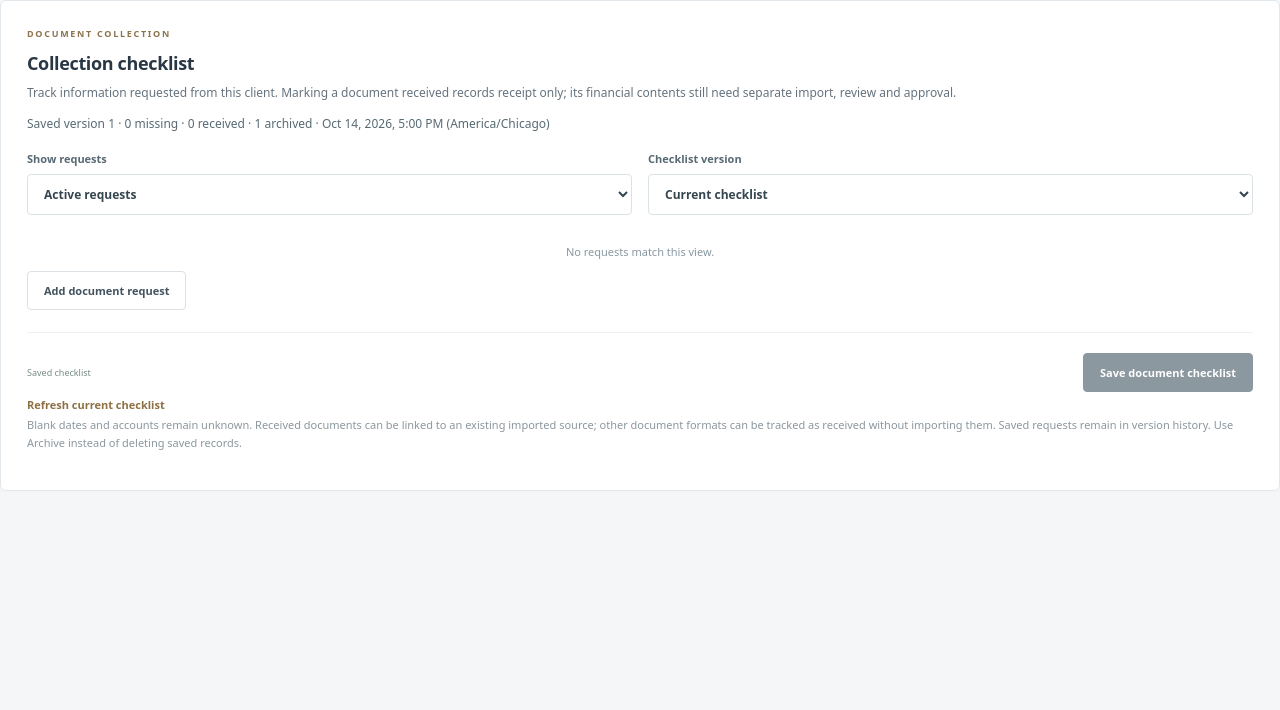
Scenario: removes only unsaved requests, preserves saved IDs and filters archived records
Expected: the text "No requests match this view." is shown, [566,244,714,259]
Select "Archived" in the dropdown labelled "Show requests" at (330, 194), box [27,174,632,215]
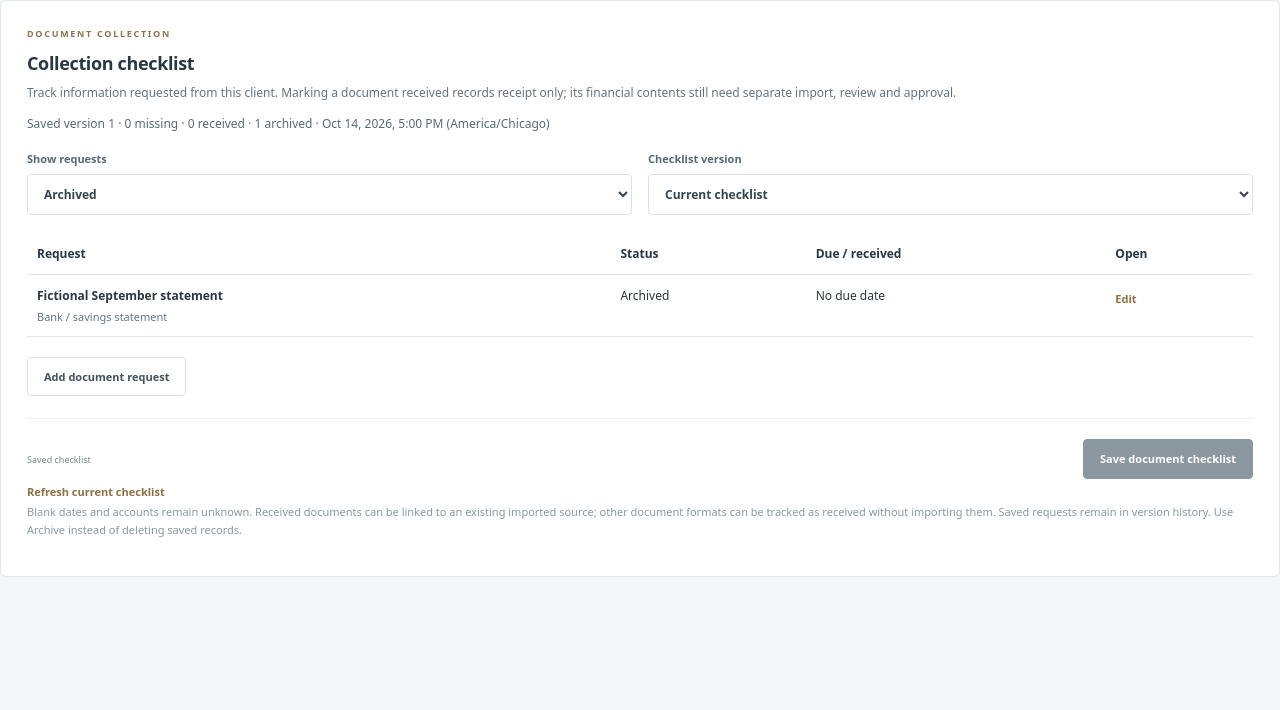
Click the button "Edit" at (1126, 298), box [1115,287,1137,310]
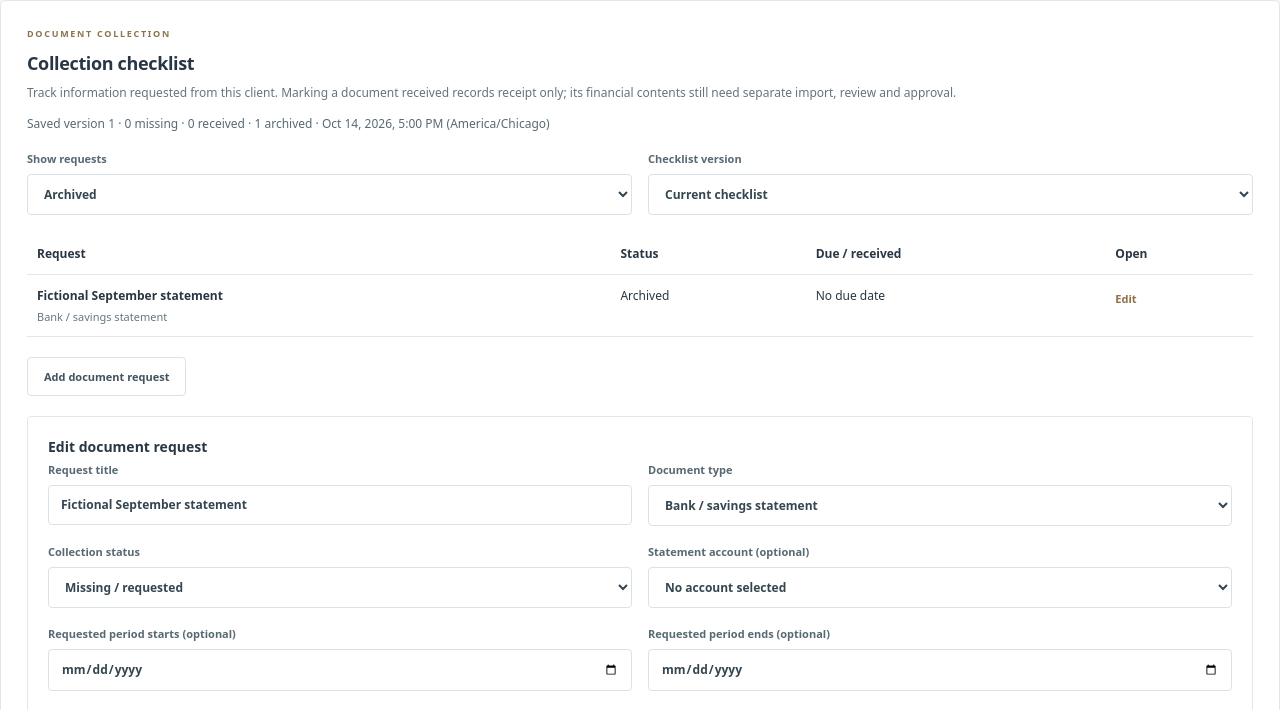
Expected: the button "Remove unsaved request" is not shown
Click the button "Add document request" at (107, 377), box [27,357,186,396]
(page scrolled)
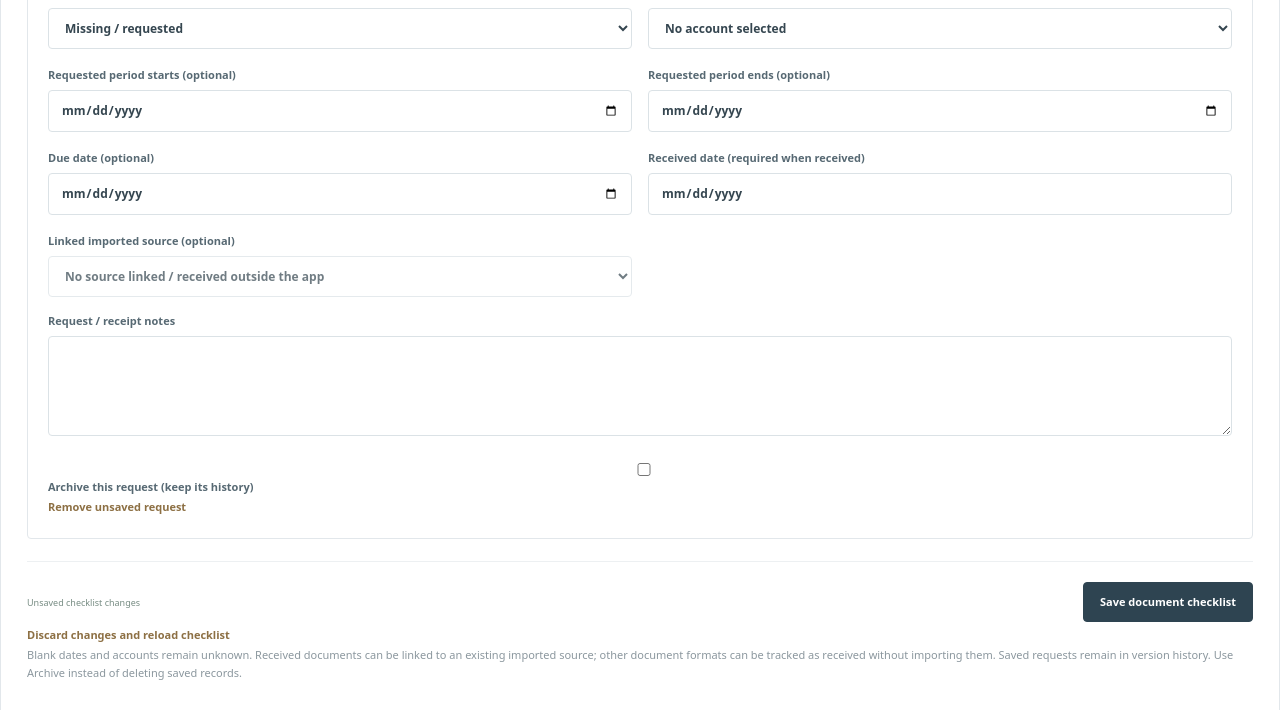
Click the button "Remove unsaved request" at (117, 507), box [48,495,186,518]
(page scrolled)
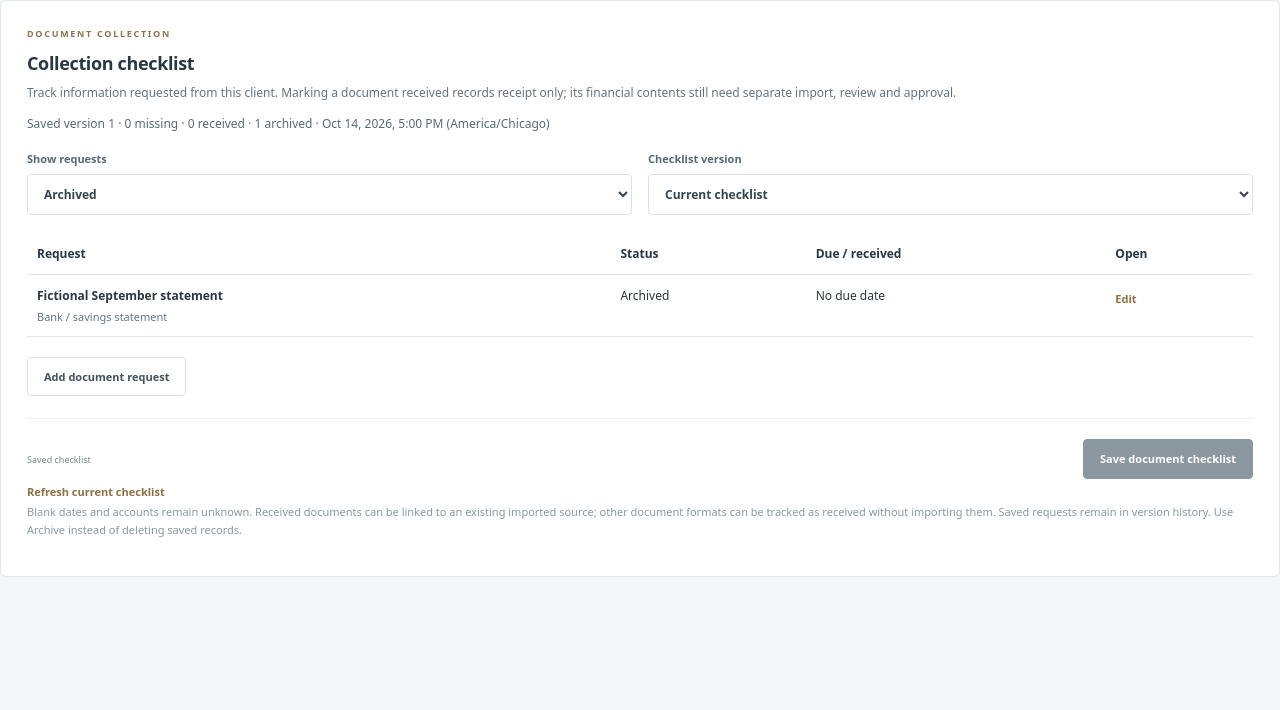
Expected: the button "Save document checklist" is disabled, [1083,439,1253,479]
